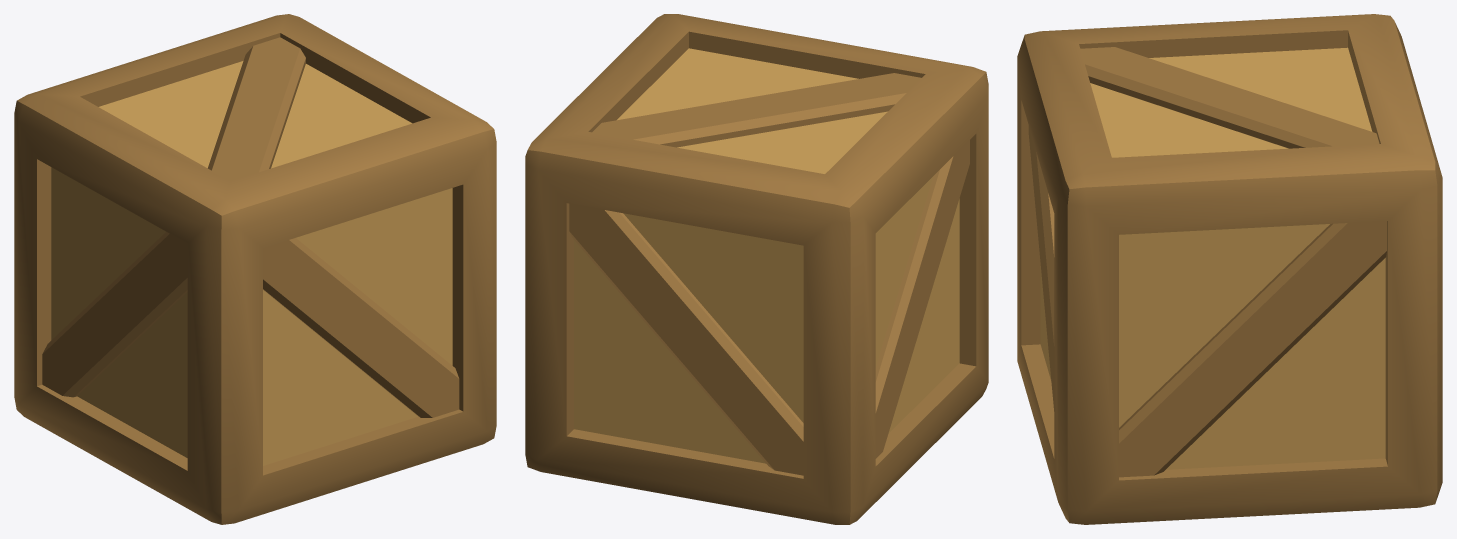
The model's file is Crate_Obs.fbx.
3 views of the same model, side by side, from view 1: azimuth 30°, elevation 25°; view 2: azimuth 150°, elevation 25°; view 3: azimuth 270°, elevation 25° (orthographic). The views are drawn at different scales.
Visible parts, largest first — view 1: Crate.002; view 2: Crate.002; view 3: Crate.002.
Boxes of the visible parts, x1,y1,x2,y2 form: Crate.002: (14, 14, 496, 524); Crate.002: (525, 14, 988, 524); Crate.002: (1017, 14, 1442, 524).
Size of the model in its own units: 24.29 by 22.12 by 24.29.
